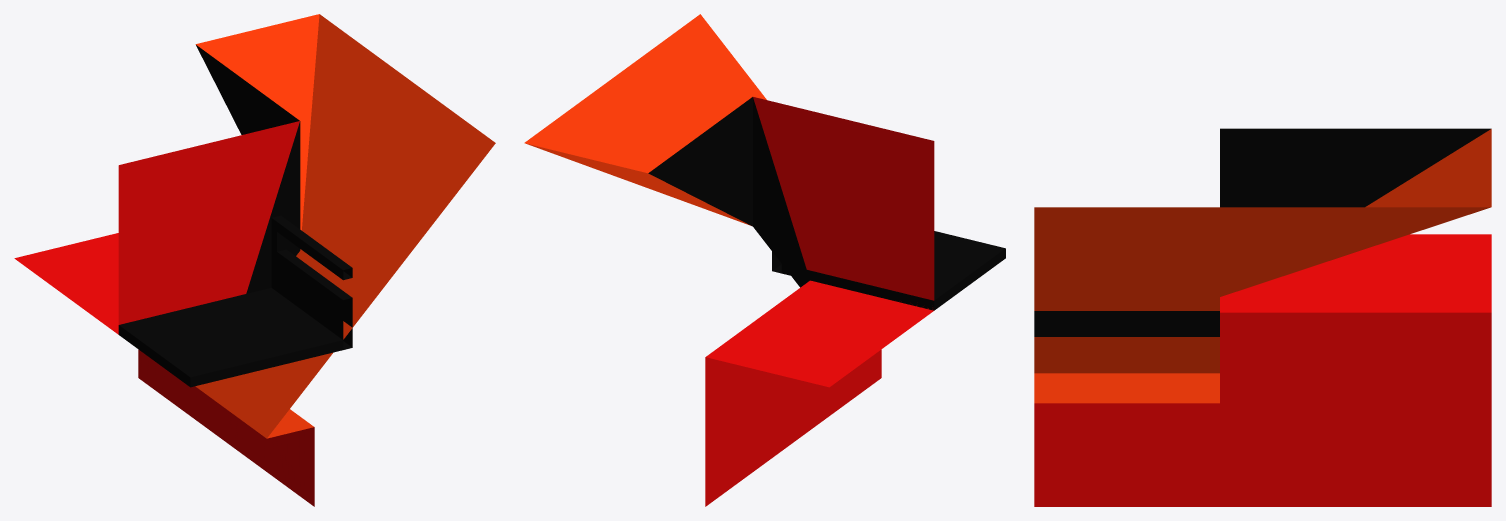
The picture shows the model from 3 angles, left to right: view 1: azimuth 30°, elevation 25°; view 2: azimuth 150°, elevation 25°; view 3: azimuth 270°, elevation 25°; orthographic projection. The views are drawn at different scales.
Visible parts, largest first — view 1: None_S_S_E_E_E_P_A_E_None; view 2: None_S_S_E_E_E_P_A_E_None; view 3: None_S_S_E_E_E_P_A_E_None.
Boxes of the visible parts, box(x1,y1,x2,y2) form: None_S_S_E_E_E_P_A_E_None: box(14, 14, 495, 506); None_S_S_E_E_E_P_A_E_None: box(524, 14, 1005, 506); None_S_S_E_E_E_P_A_E_None: box(1034, 128, 1491, 506).
Size of the model in its own units: 100 by 100 by 100.
